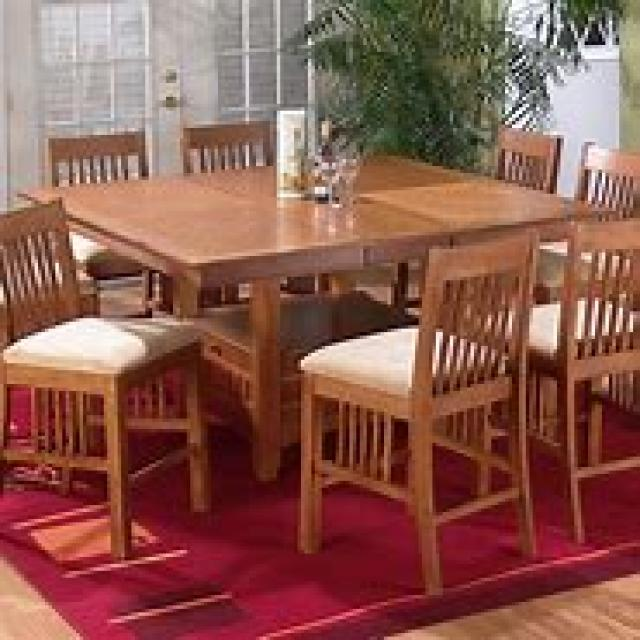chair: (294, 225, 540, 595), (0, 194, 211, 560)
